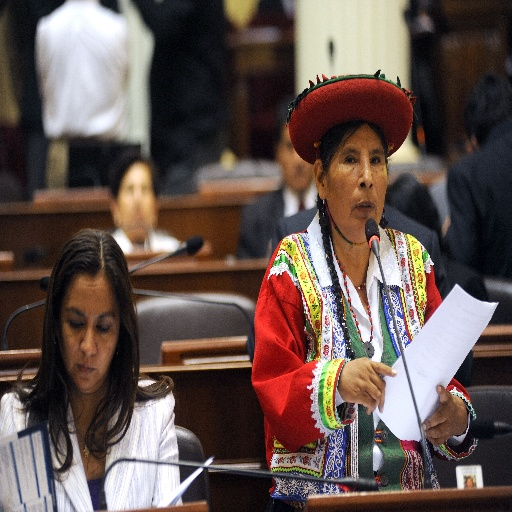hand: (420, 382, 468, 449), (346, 357, 396, 420)
